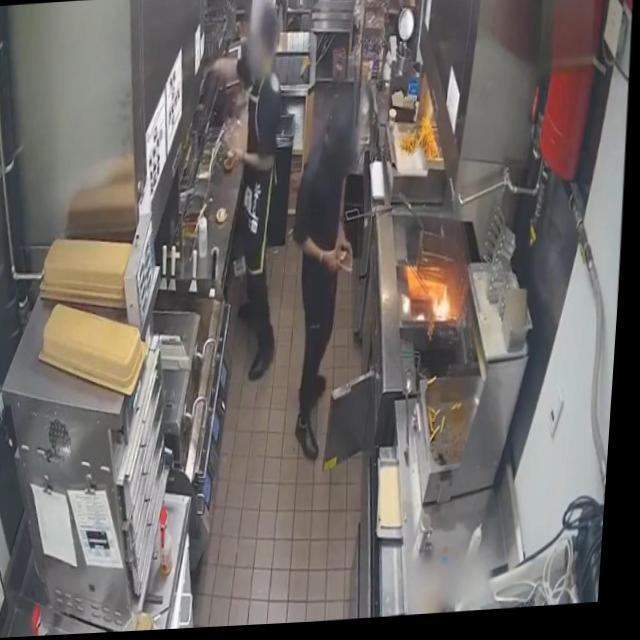fire: (416, 287, 461, 330)
